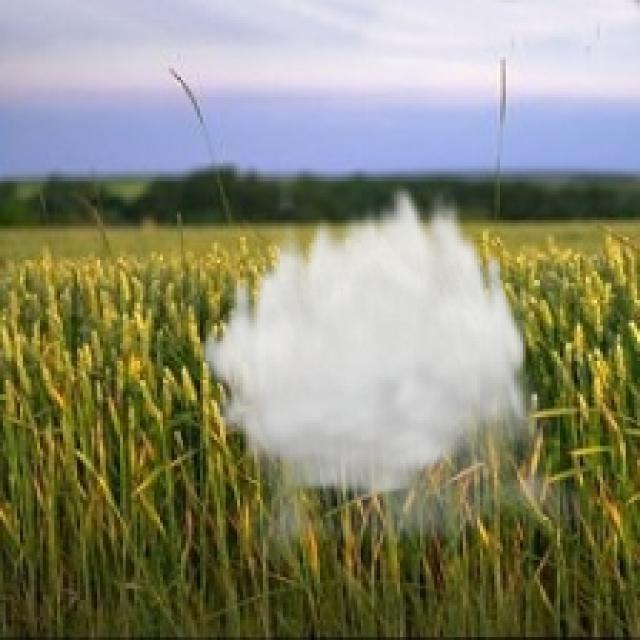smoke: (197, 177, 600, 574)
